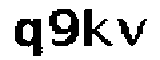9: (46, 8, 81, 48)
k: (81, 6, 113, 55)
q: (8, 15, 44, 60)
v: (113, 15, 147, 49)
